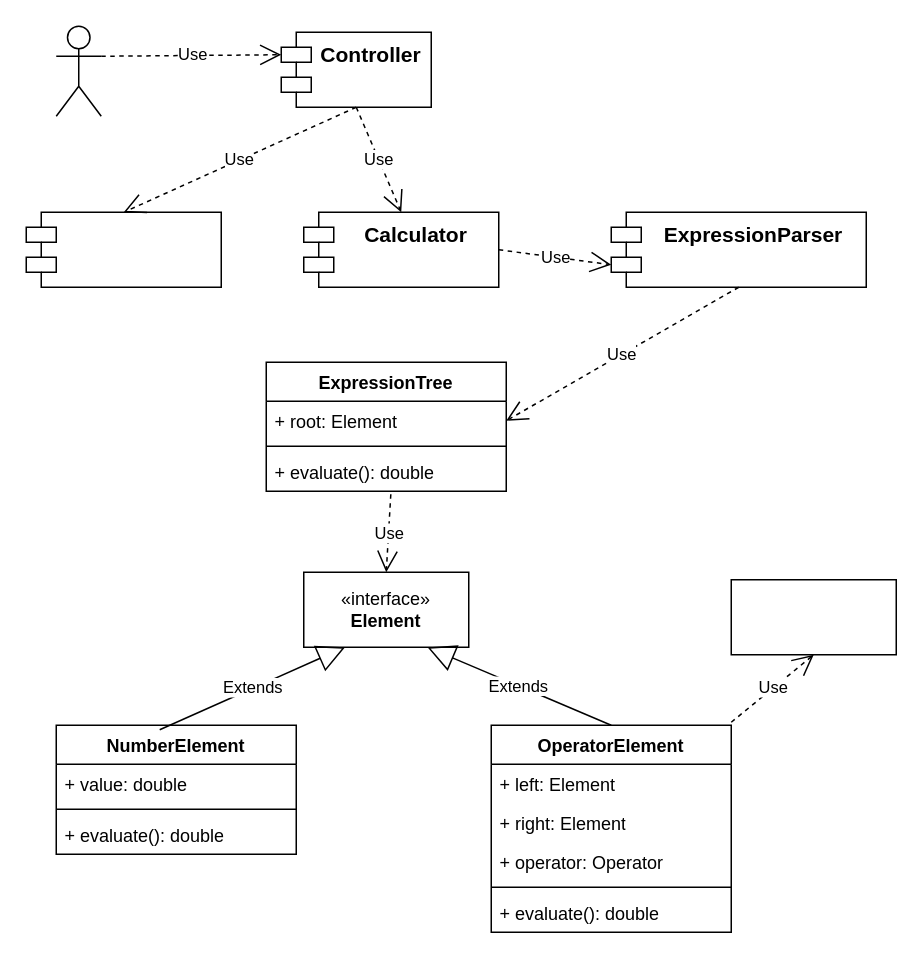
Some shapes in this 923 by 963 pixel diagram are drawn without their labels. Here are the shapes that lost their labels. From the top down, the box of each, then its label:
(55, 25, 101, 116): User
(25, 211, 221, 287): Expression
(730, 578, 896, 655): «interface» Operator
